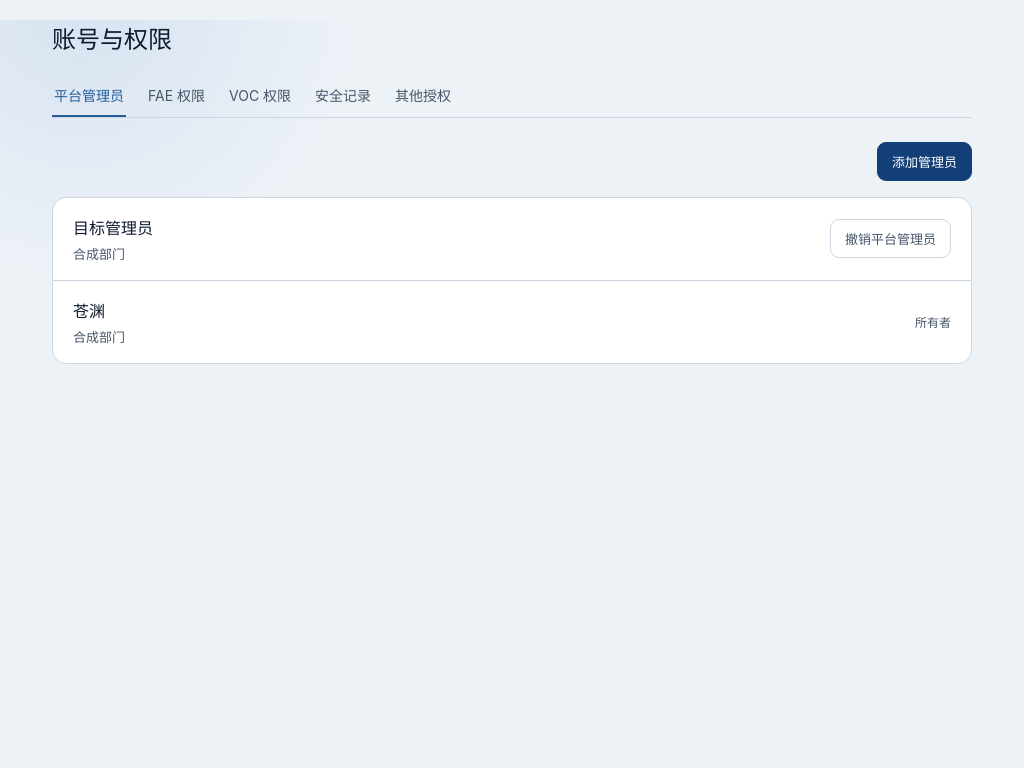
Test: IdentityManagementPage › reconciles indeterminate administrator assignment with the identical operation ID and refreshed role
Click the button "添加管理员" at (924, 161), box x1=877 y1=142 x2=972 y2=181
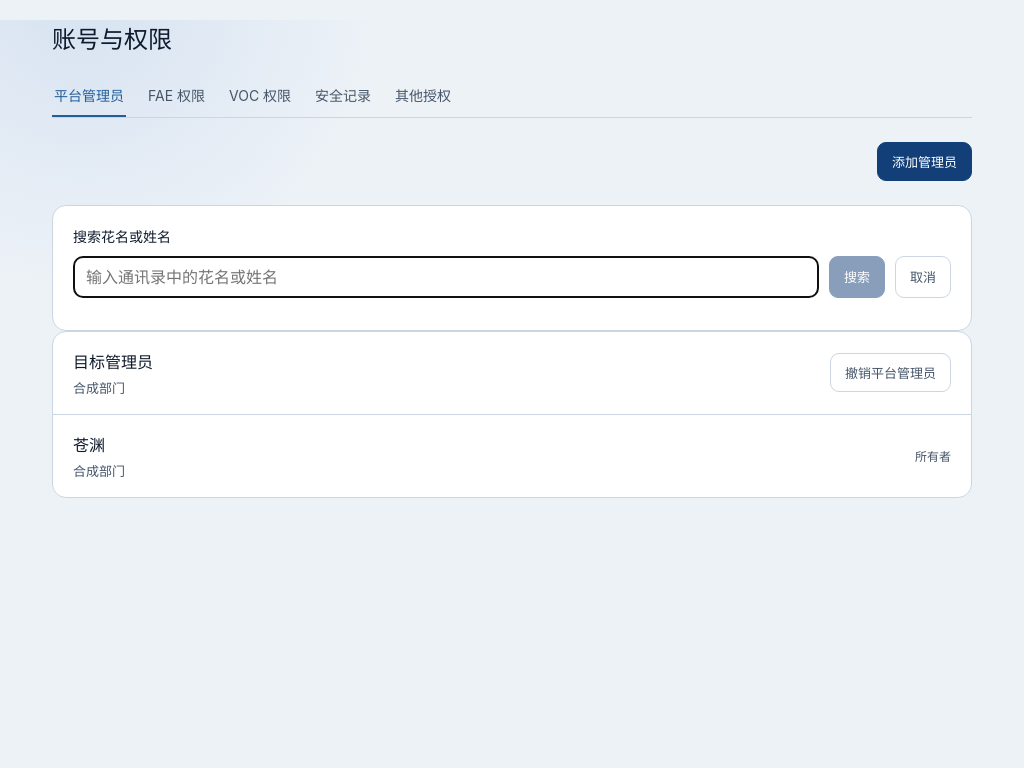
Type "测试成员" into the field with id "administrator-query" at (446, 277), box x1=73 y1=256 x2=819 y2=298
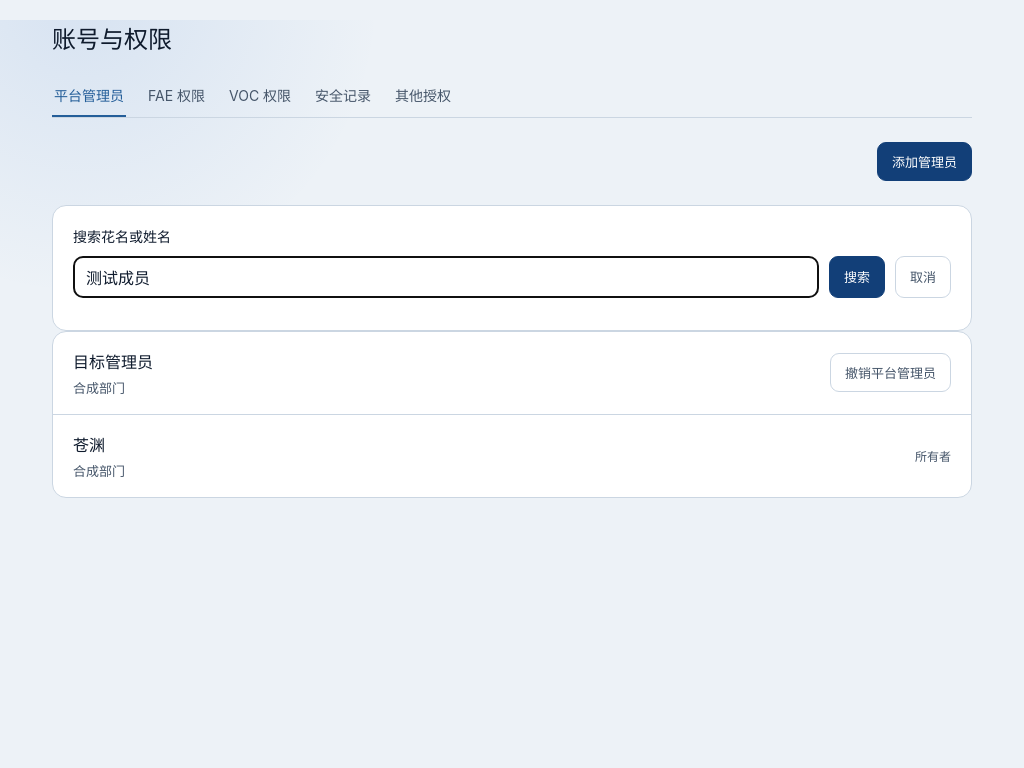
Submit the form, box x1=73 y1=226 x2=951 y2=298
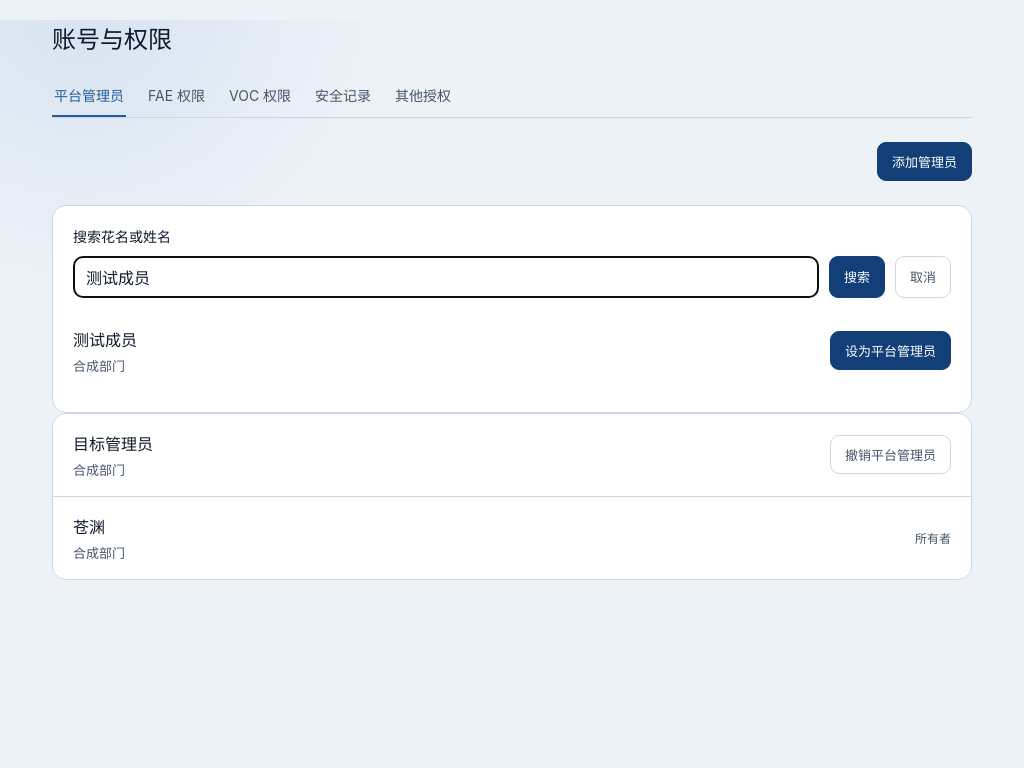
Click the button "设为平台管理员" at (890, 351), box x1=830 y1=331 x2=951 y2=370
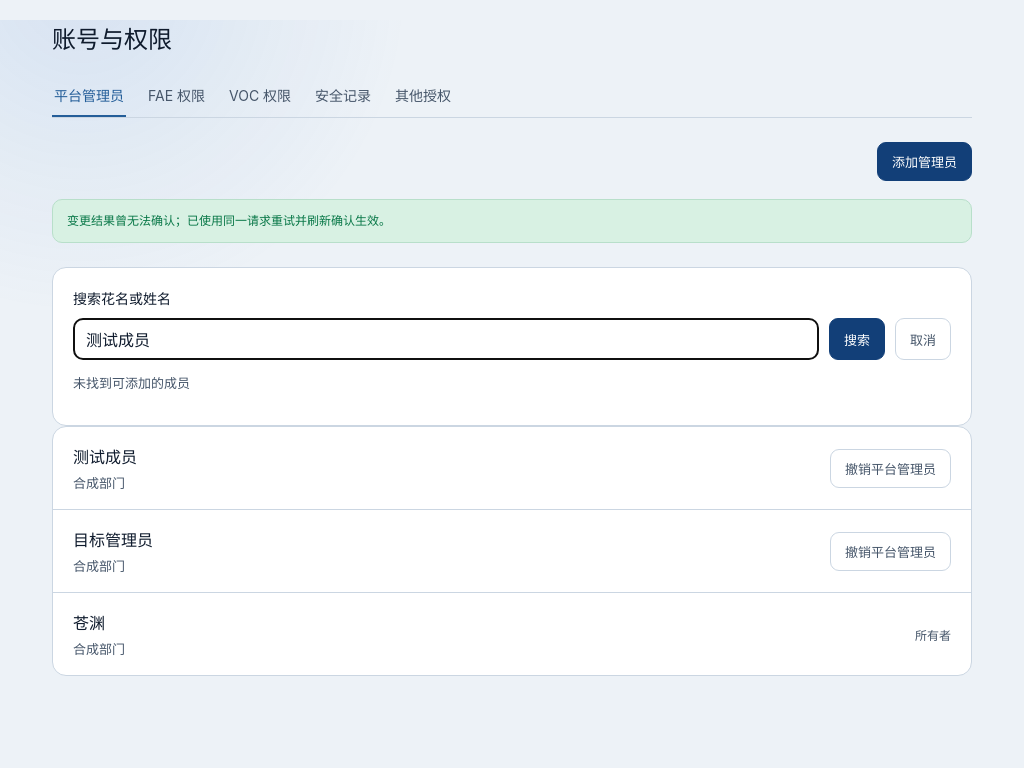
Expected: the text "变更结果曾无法确认；已使用同一请求重试并刷新确认生效。" is shown, x1=52 y1=199 x2=972 y2=243
